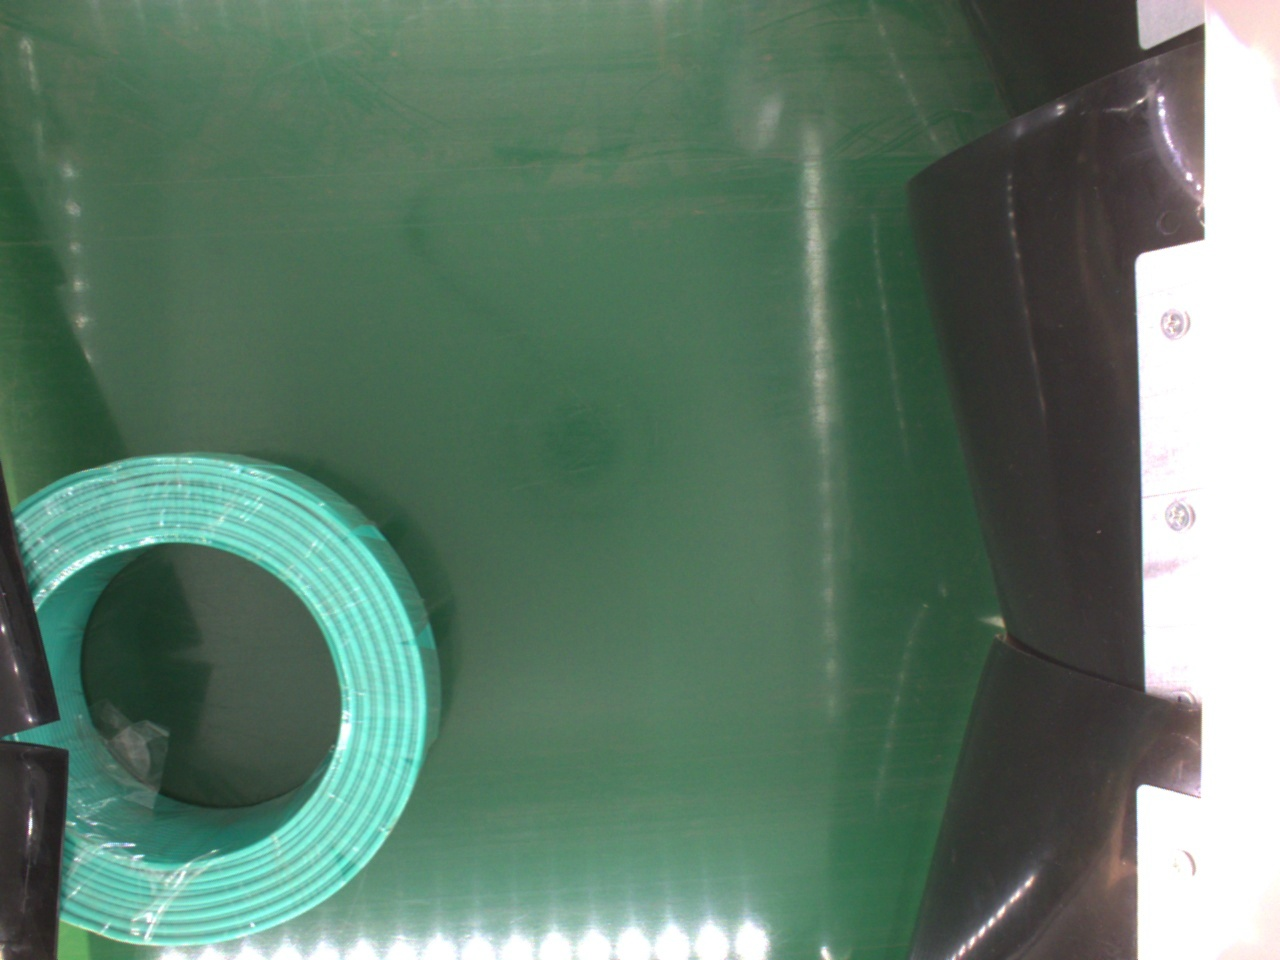green: (14, 446, 444, 954)
